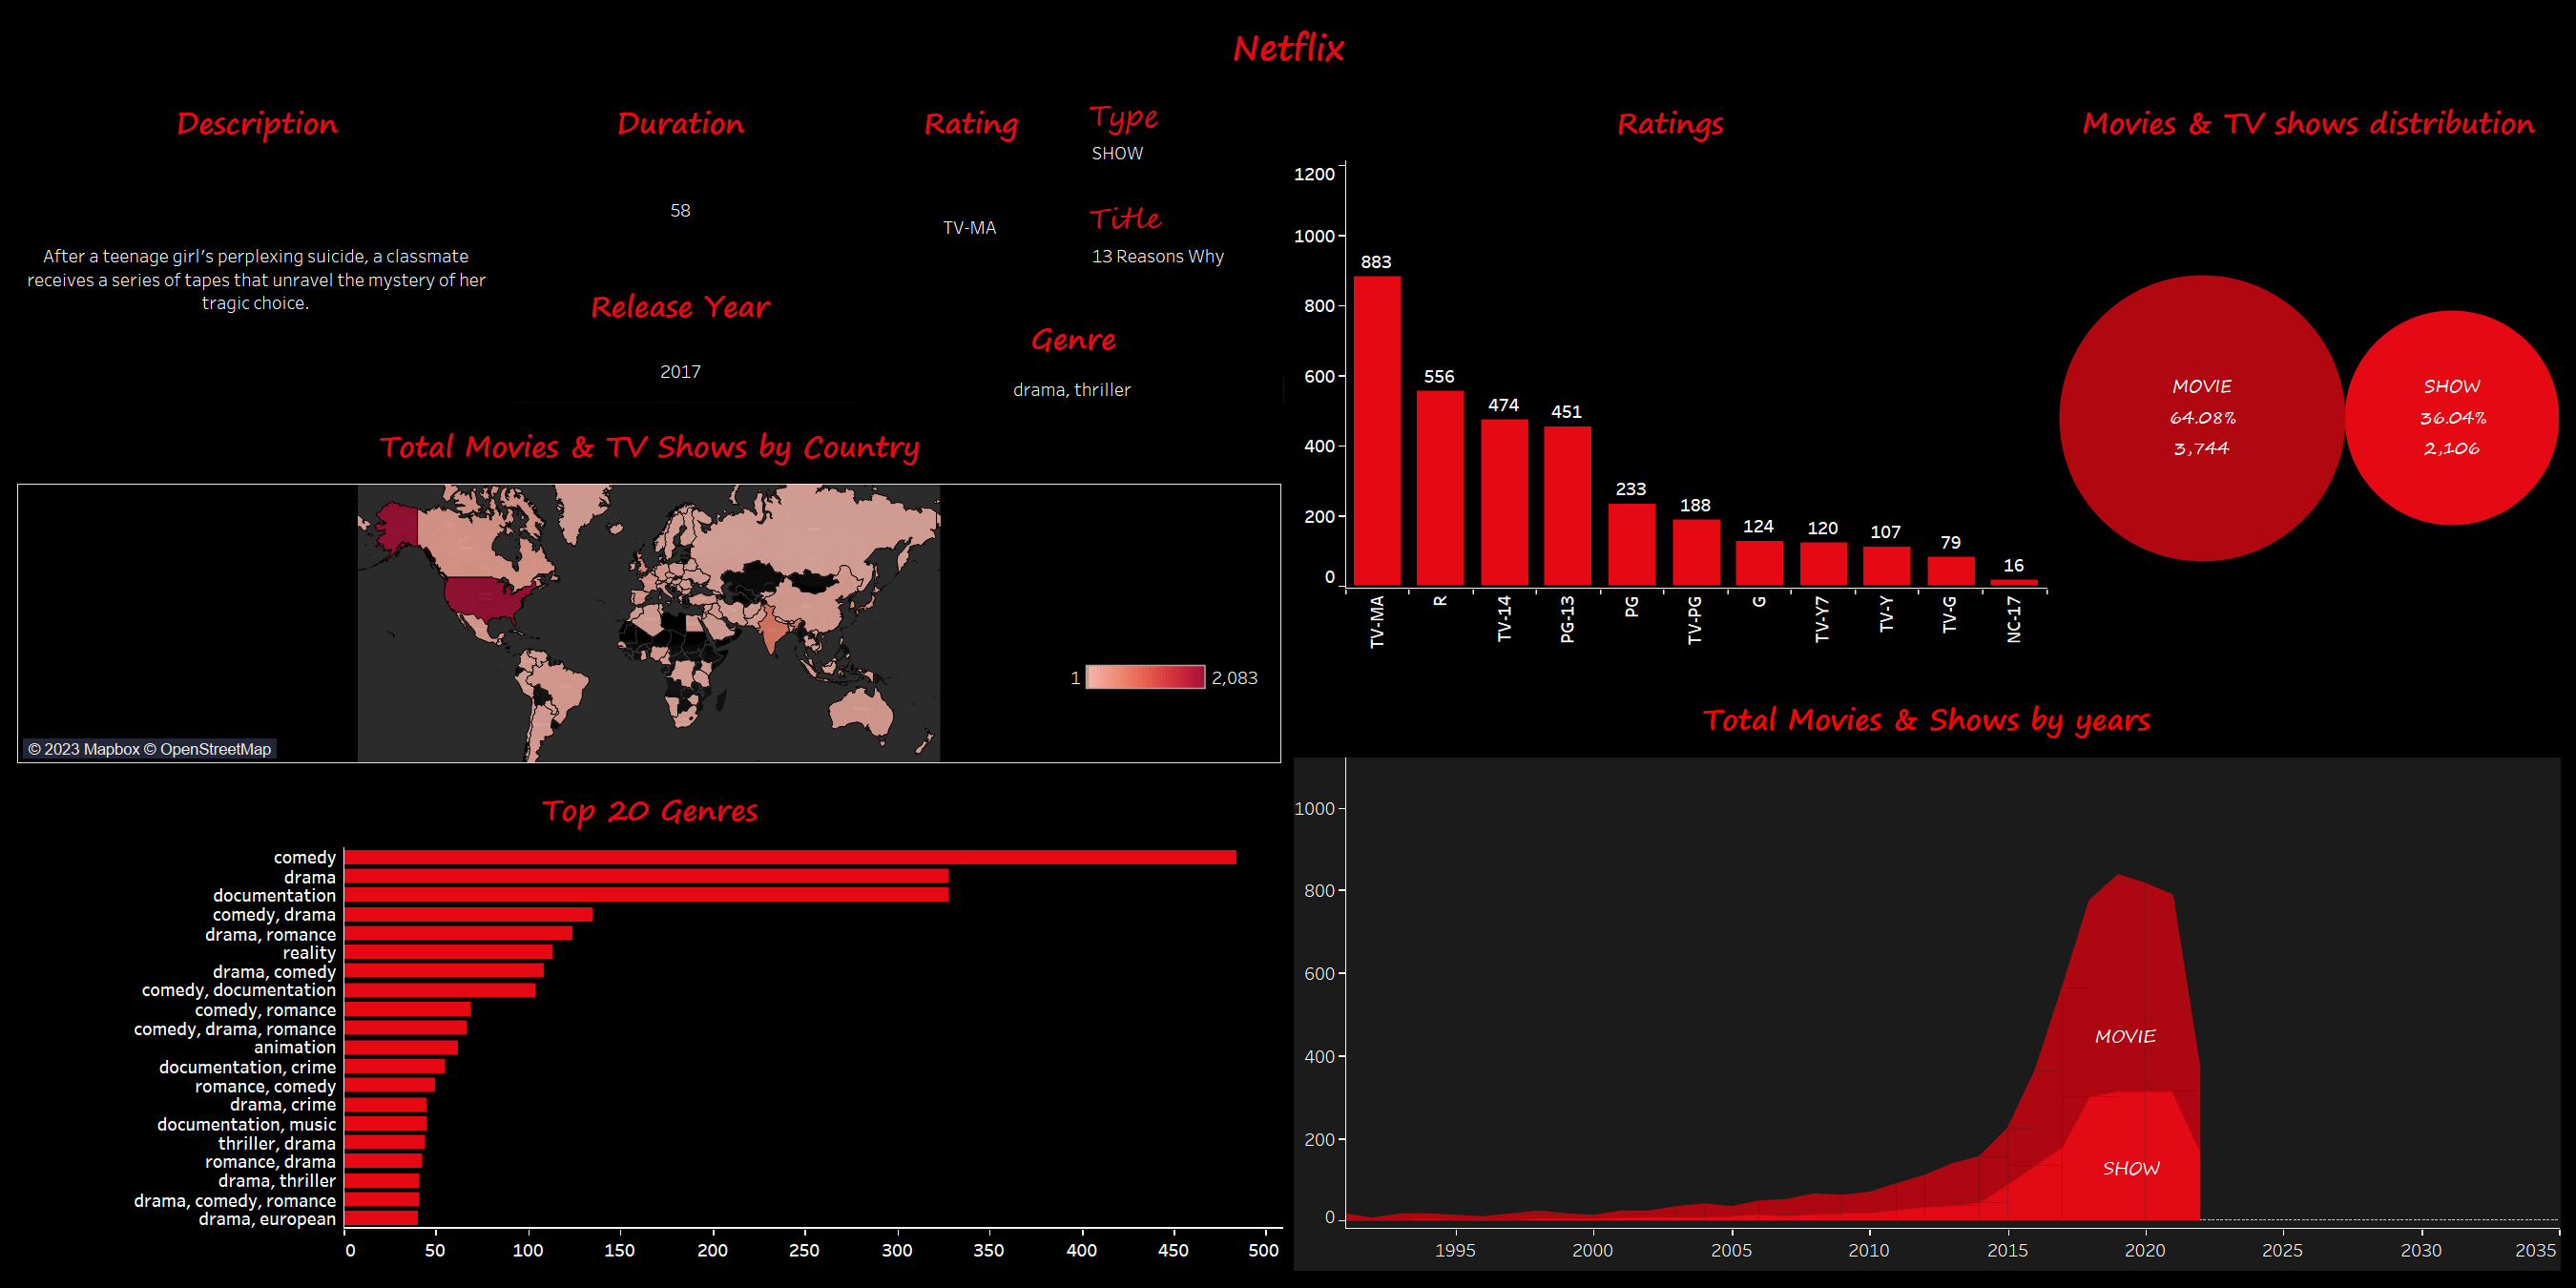

Layout of this report page (visuals, bound fields, positions):
{"tool":"tableau","page":{"name":"Netflix","canvas":[1800,900],"ordinal":0},"visuals":[{"type":"title","box":[8,8,1784,50]},{"type":"worksheet","title":"Description","mark":"Automatic","box":[8,58,343,225.8]},{"type":"worksheet","title":"Duration","mark":"Automatic","box":[351,58,249,127.6]},{"type":"worksheet","title":"Rating","mark":"Automatic","box":[600,58,157,150.8]},{"type":"filter","title":"Description","param":"[federated.0y77h020ennn7f164zv7317ar3oi].[none:type:nk]","box":[757,58,142.8,74.9]},{"type":"worksheet","title":"Ratings","mark":"Automatic","rows":["id"],"cols":["age_certification"],"box":[899.8,58,534,416.9]},{"type":"worksheet","title":"Movies  & TV shows distribution","mark":"Circle","box":[1433.8,58,358.2,416.9]},{"type":"filter","title":"Description","param":"[federated.0y77h020ennn7f164zv7317ar3oi].[none:title:nk]","box":[757,132.9,142.8,75.9]},{"type":"worksheet","title":"Release Year","mark":"Automatic","box":[351,185.6,249,98.3]},{"type":"worksheet","title":"Genre","mark":"Automatic","box":[600,208.8,299.8,75]},{"type":"worksheet","title":"Total Movies & TV shows by country","mark":"Multipolygon","box":[8,283.8,891.8,254]},{"type":"legend","title":"Total Movies & TV shows by country","param":"[federated.0y77h020ennn7f164zv7317ar3oi].[ctd:id:qk]","box":[744,461,140,35]},{"type":"worksheet","title":"Total Movies & Shows by years","mark":"Area","rows":["id"],"cols":["release_year"],"box":[899.8,474.9,892.2,417.1]},{"type":"worksheet","title":"Top 20 Genres","mark":"Automatic","rows":["genres"],"cols":["id"],"box":[8,537.8,891.8,354.2]}]}

Visuals, with their boxes in screenshot pixels (x1, y1, x2, y2), scaled from the page's 1800x900 canvas onto the 2576x1288 screenshot:
title: 11, 11, 2565, 83
"Description" worksheet: 11, 83, 502, 406
"Duration" worksheet: 502, 83, 859, 265
"Rating" worksheet: 859, 83, 1084, 299
"Description" filter: 1084, 83, 1288, 190
"Ratings" worksheet: 1288, 83, 2052, 679
"Movies  & TV shows distribution" worksheet (Circle marks): 2052, 83, 2565, 679
"Description" filter: 1084, 190, 1288, 299
"Release Year" worksheet: 502, 265, 859, 406
"Genre" worksheet: 859, 299, 1288, 406
"Total Movies & TV shows by country" worksheet (Multipolygon marks): 11, 406, 1288, 770
"Total Movies & TV shows by country" legend: 1065, 660, 1265, 710
"Total Movies & Shows by years" worksheet (Area marks): 1288, 679, 2565, 1277
"Top 20 Genres" worksheet: 11, 770, 1288, 1277
